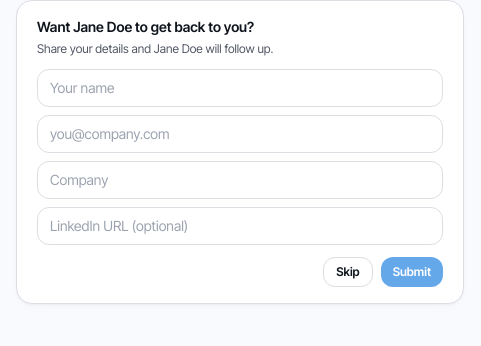
Test: LeadCaptureCard › shows an inline error on invalid email and does not POST
The width and height of the screenshot is (481, 346).
In the field labelled "Your name": (240, 88) top-left (37, 69), bottom-right (443, 107), type "Rec Ruiter"
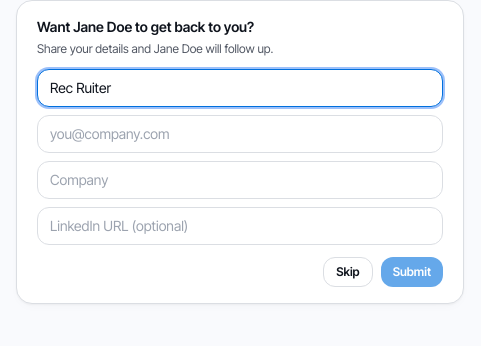
In the field named "email address": (240, 134) top-left (37, 115), bottom-right (443, 153), type "not-an-email"
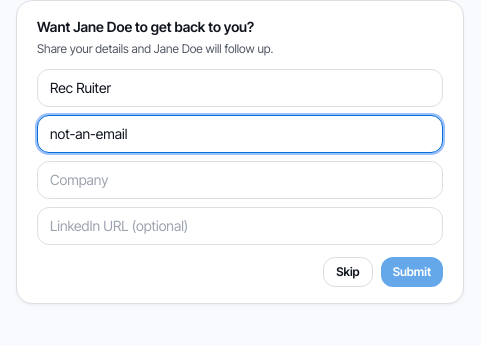
In the field labelled "Company": (240, 180) top-left (37, 161), bottom-right (443, 199), type "Acme Inc"
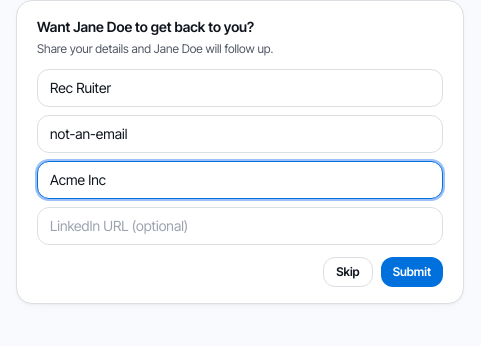
Submit the form
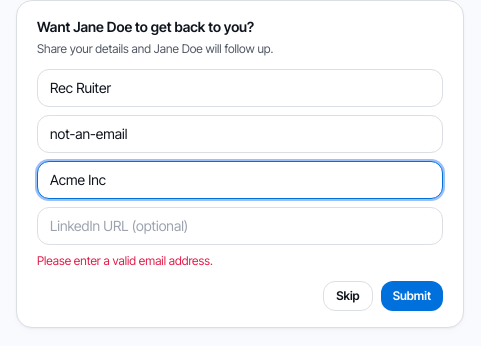
Expected: the message shows "valid email", top-left (37, 253), bottom-right (213, 268)
